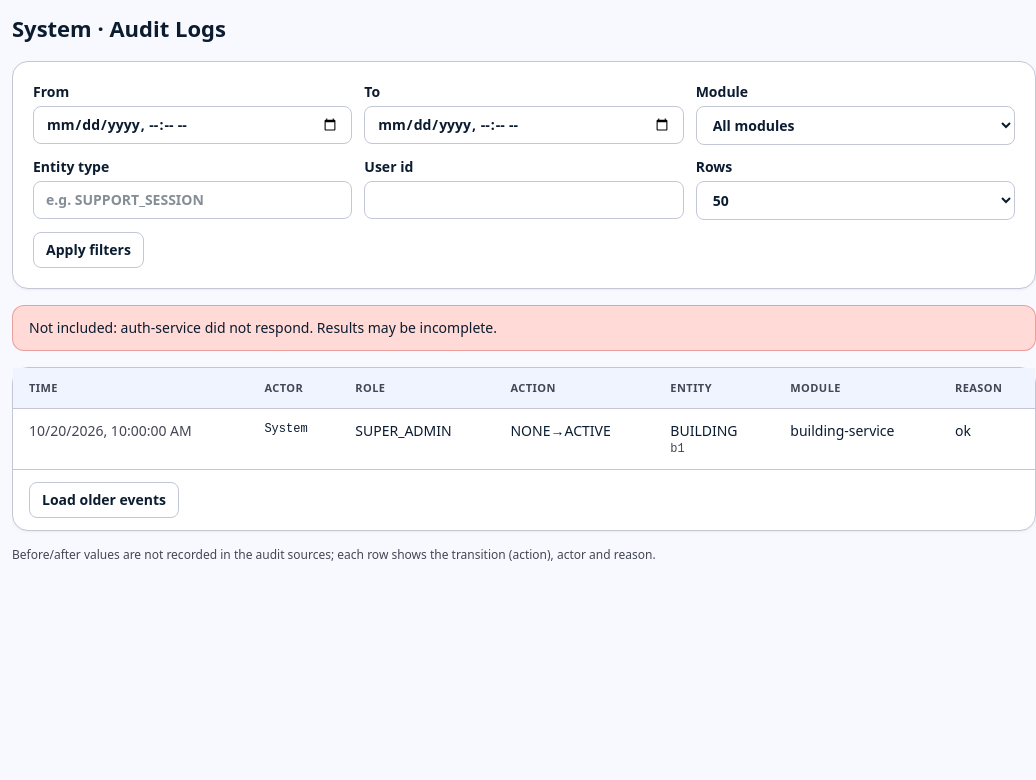
Test: AuditLogScreen › sends filters to the server, names unavailable sources, and pages older events
Expected: the text "System" is shown, x1=248 y1=408 x2=339 y2=469
Expected: the message shows "auth-service did not respond", x1=12 y1=305 x2=1035 y2=351
Type "BUILDING" into the field labelled "Entity type" at x=193, y=200, box x1=33 y1=181 x2=352 y2=219
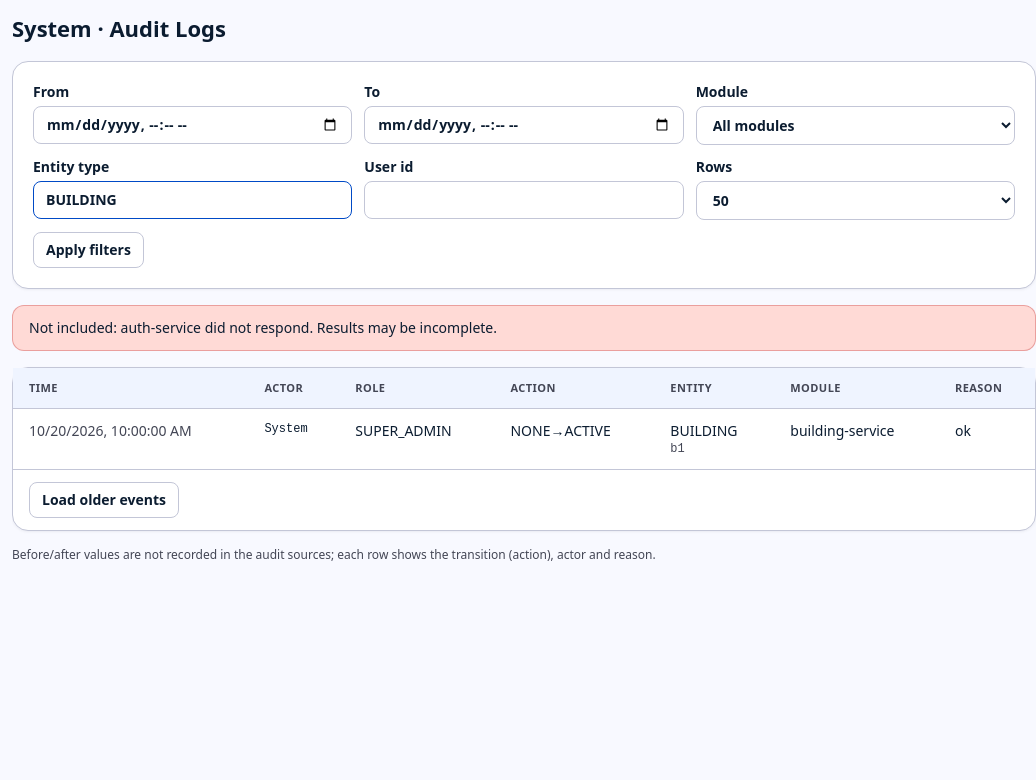
Select "building-service" in the dropdown labelled "Module" at x=855, y=126, box x1=696 y1=106 x2=1015 y2=145
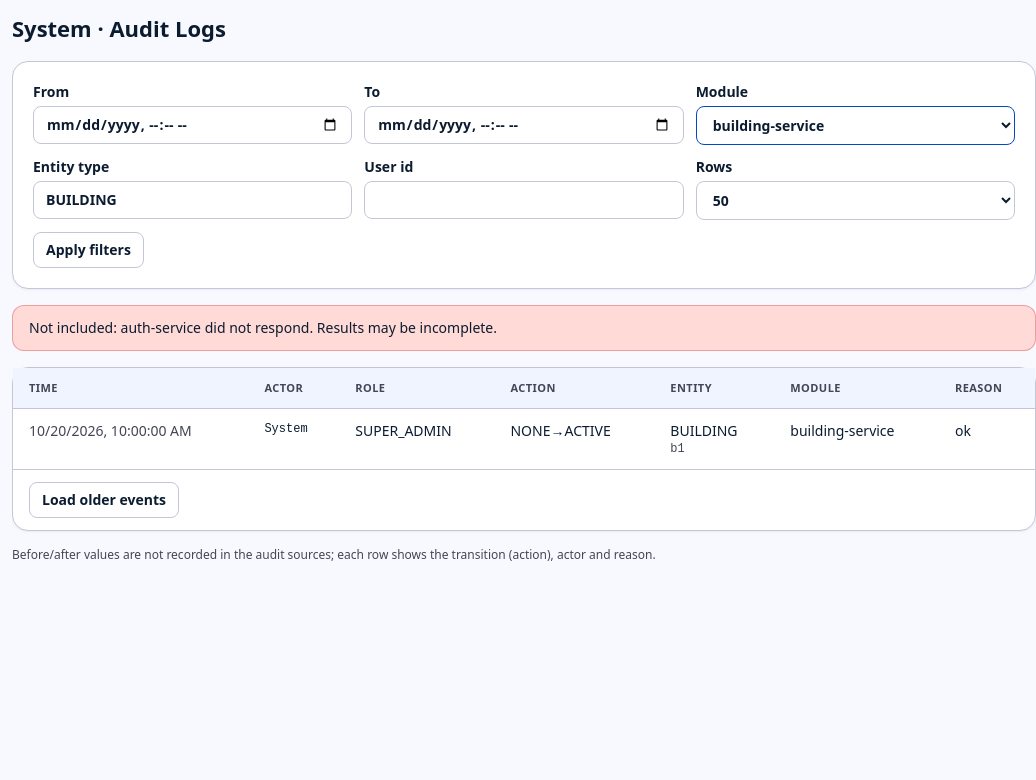
Click the button "Apply filters" at x=88, y=250, box x1=33 y1=232 x2=144 y2=268
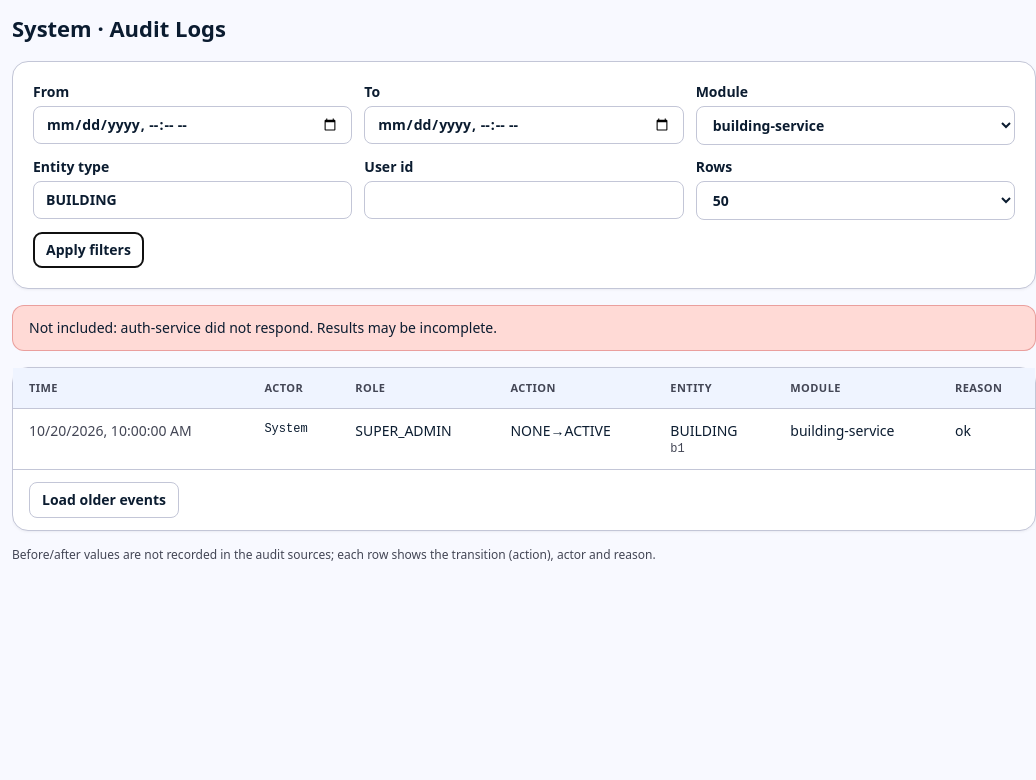
Expected: the text "System" is shown, x1=248 y1=408 x2=339 y2=469
Click the button "Load older events" at x=104, y=500, box x1=29 y1=482 x2=179 y2=518
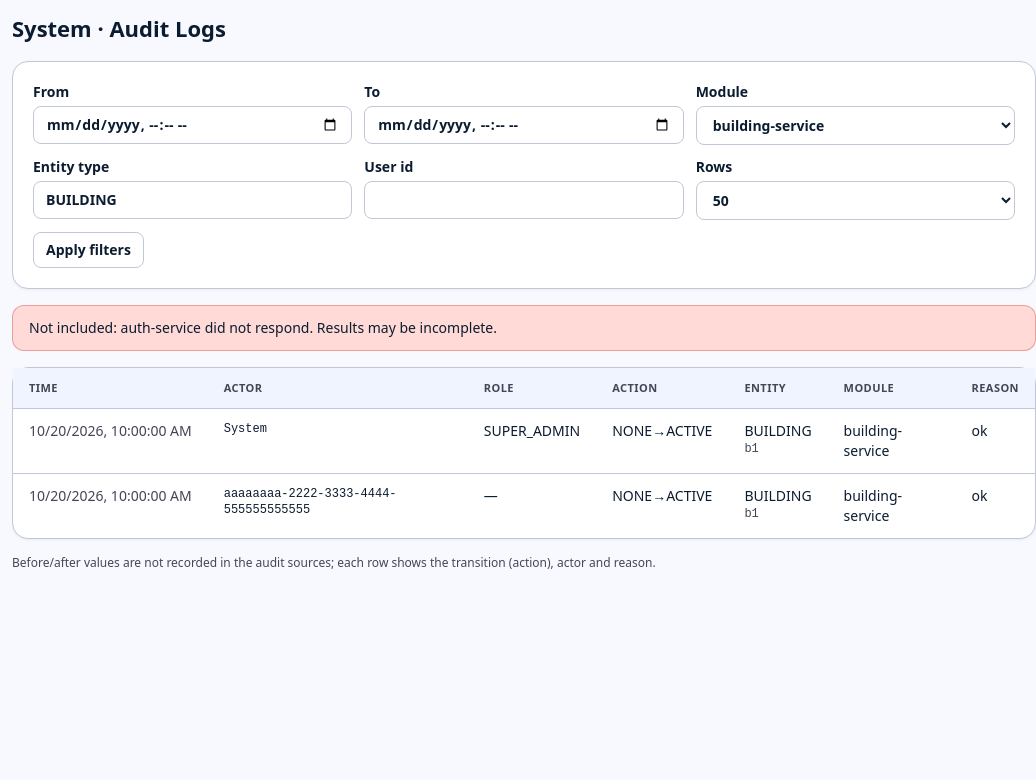
Expected: the text "NONE→ACTIVE" is shown 2 times, x1=596 y1=408 x2=728 y2=473; x1=596 y1=473 x2=728 y2=538
Expected: the button "Load older events" is gone
